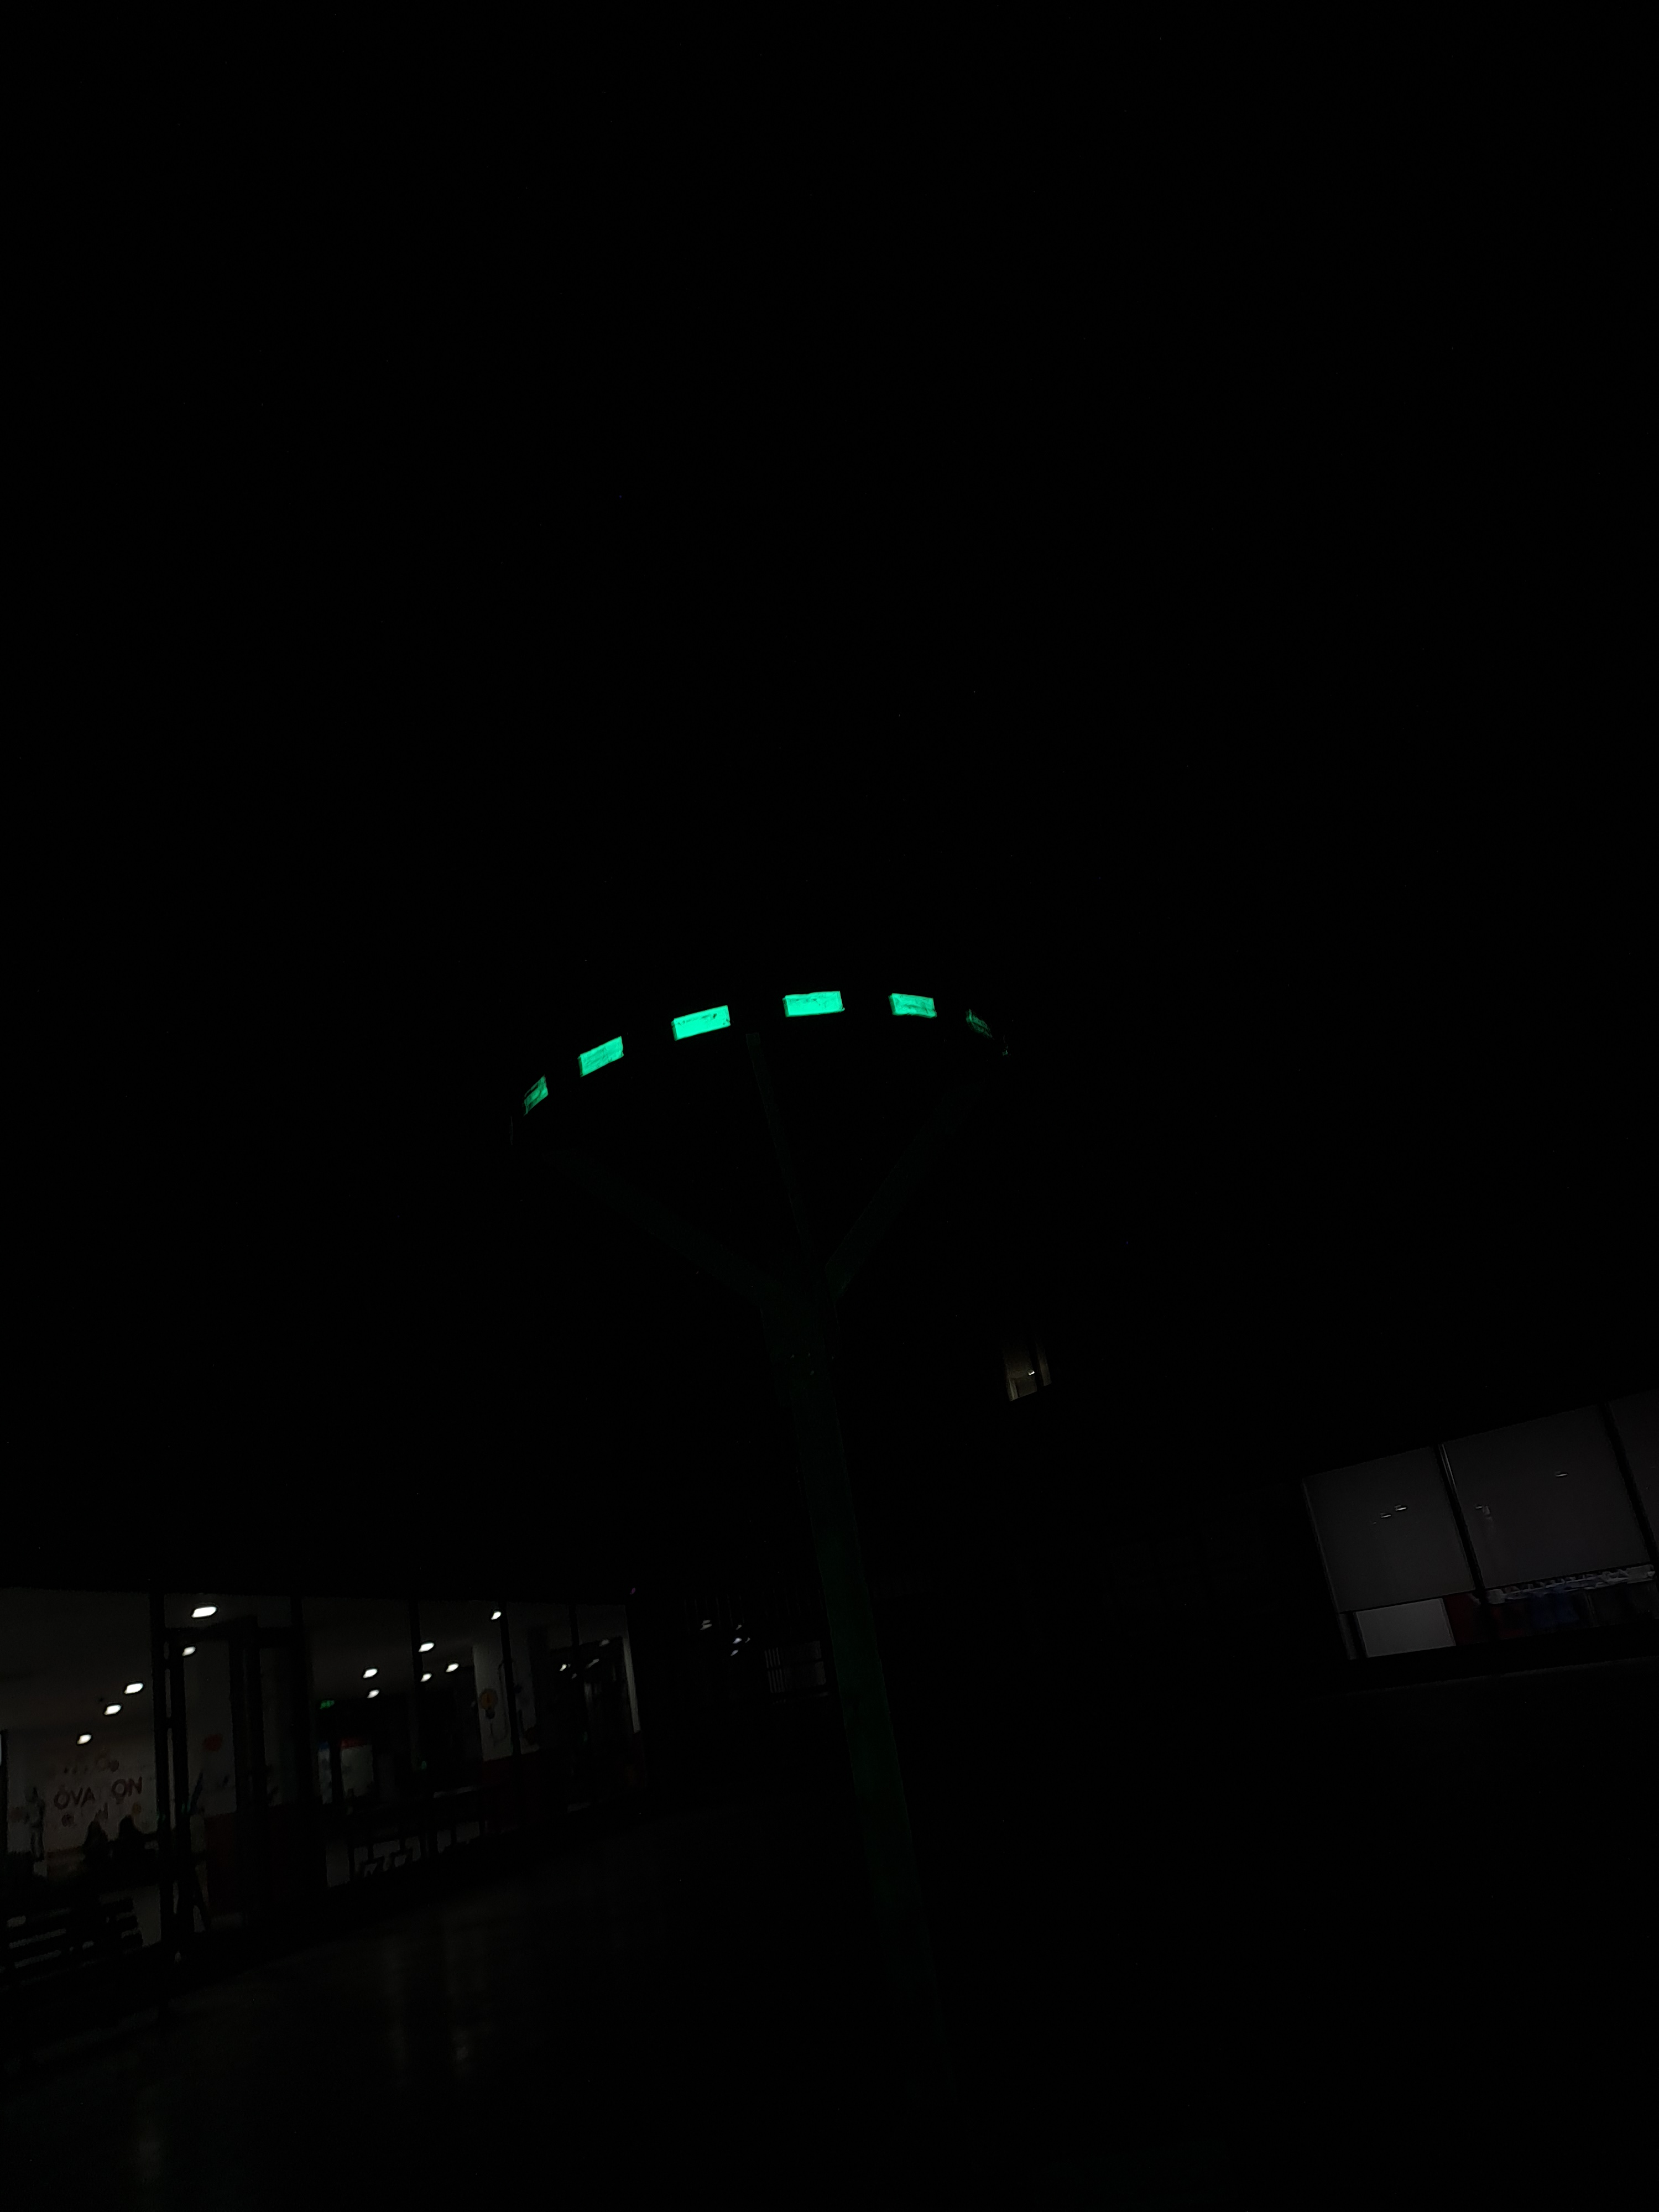hoop: (507, 984, 946, 1122)
